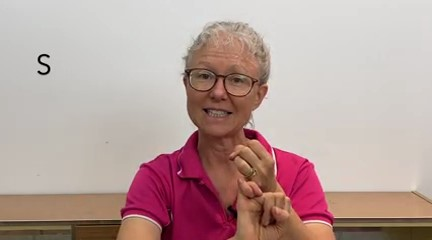S: (214, 136, 302, 240)
